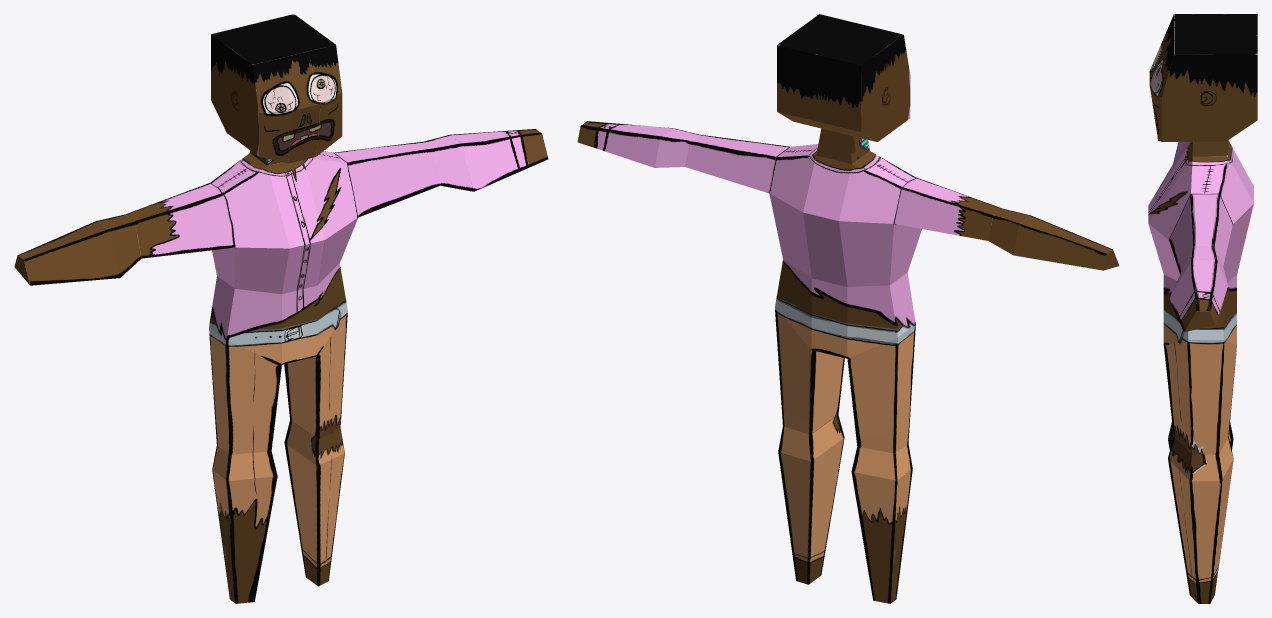
File: ZOMBIE 5 FBX.fbx
The picture shows the model from 3 angles, left to right: view 1: azimuth 30°, elevation 25°; view 2: azimuth 150°, elevation 25°; view 3: azimuth 270°, elevation 25°; orthographic projection.
Parts seen in each view (by area): view 1: ZOMBIE2_2.003; view 2: ZOMBIE2_2.003; view 3: ZOMBIE2_2.003.
Part boxes in pixels (x1,y1,x2,y2): ZOMBIE2_2.003: (14, 14, 548, 603); ZOMBIE2_2.003: (577, 14, 1119, 603); ZOMBIE2_2.003: (1148, 14, 1257, 603).
Bounding box in the file's own units: 830 × 836 × 152.
1 material, 1 textured.
